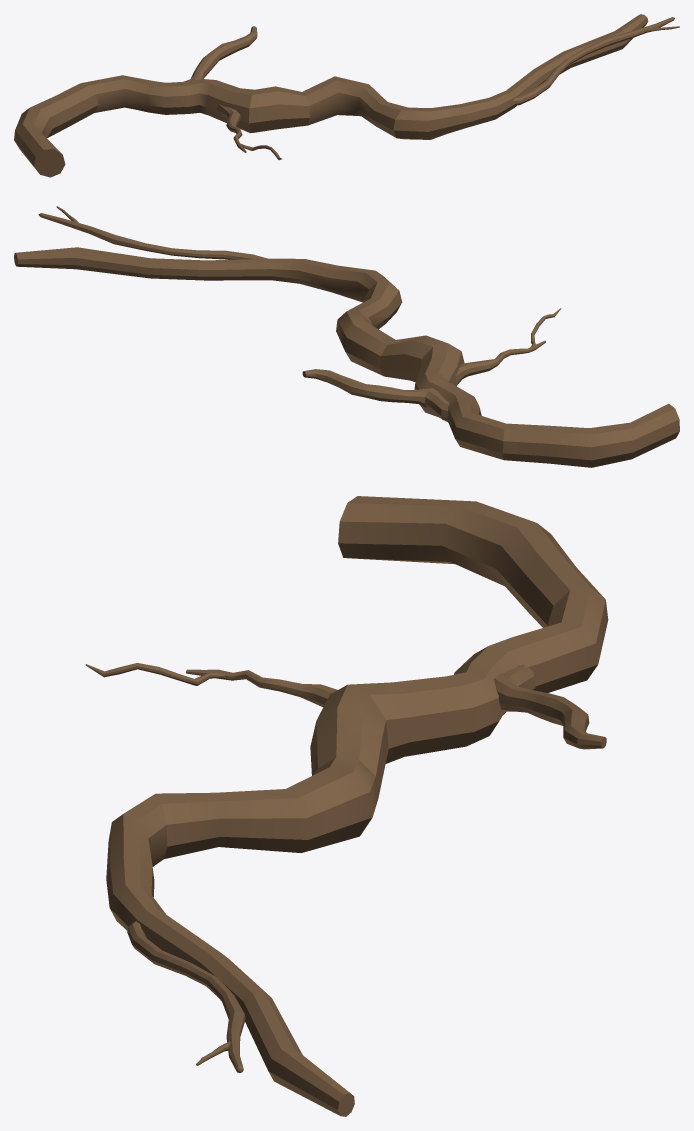
3 views of the same model, one above another, from view 1: azimuth 30°, elevation 25°; view 2: azimuth 150°, elevation 25°; view 3: azimuth 270°, elevation 25° (orthographic). The views are drawn at different scales.
Visible parts, largest first — view 1: pasted__pasted__pasted__pasted__pasted__pasted__pasted__past (×4); view 2: pasted__pasted__pasted__pasted__pasted__pasted__pasted__past (×4); view 3: pasted__pasted__pasted__pasted__pasted__pasted__pasted__past (×5).
Part boxes in pixels (bbox=[...]): pasted__pasted__pasted__pasted__pasted__pasted__pasted__past (×4): bbox=[14, 14, 674, 177]; pasted__pasted__pasted__pasted__pasted__pasted__pasted__past (×4): bbox=[14, 213, 679, 467]; pasted__pasted__pasted__pasted__pasted__pasted__pasted__past (×5): bbox=[85, 496, 608, 1116].
Size of the model in its own units: 60.39 by 4.57 by 22.43.
